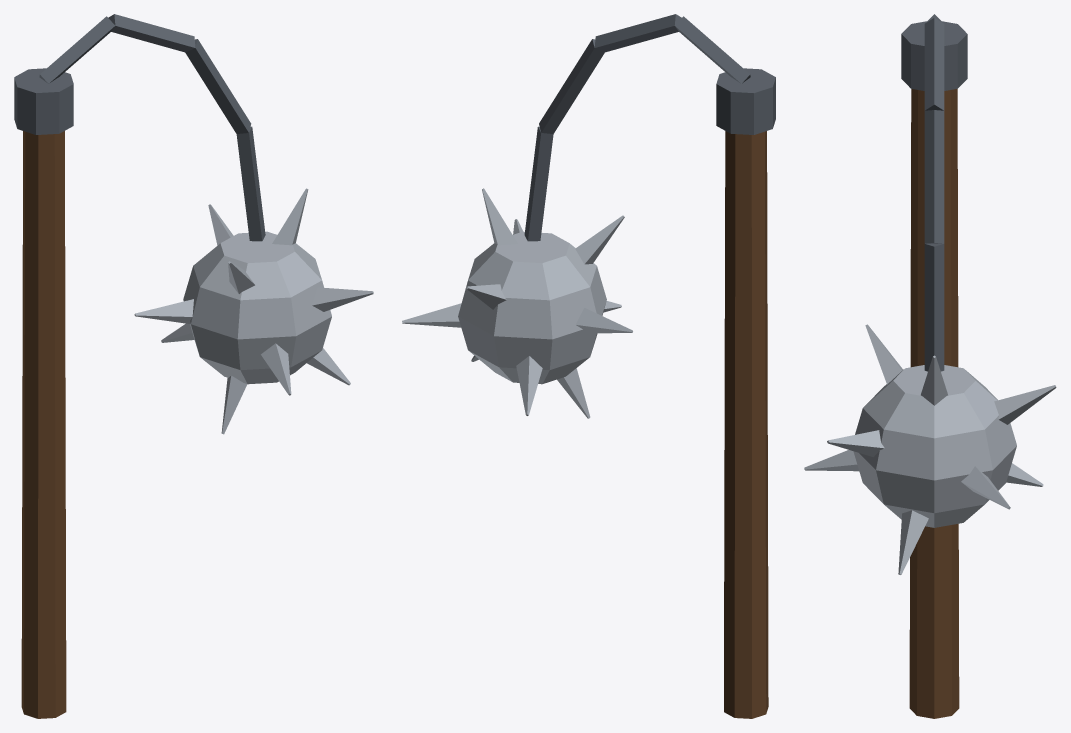
File: g-flail.glb
The picture shows the model from 3 angles, left to right: view 1: azimuth 30°, elevation 25°; view 2: azimuth 150°, elevation 25°; view 3: azimuth 270°, elevation 25°; orthographic projection. The views are drawn at different scales.
Parts seen in each view (by area): view 1: g-flail; view 2: g-flail; view 3: g-flail.
Part boxes in pixels (x1=…): g-flail: x1=14, y1=14, x2=373, y2=718; g-flail: x1=402, y1=14, x2=775, y2=718; g-flail: x1=804, y1=14, x2=1056, y2=718.
Bounding box in the file's own units: 0.2519 × 0.4854 × 0.1524.
